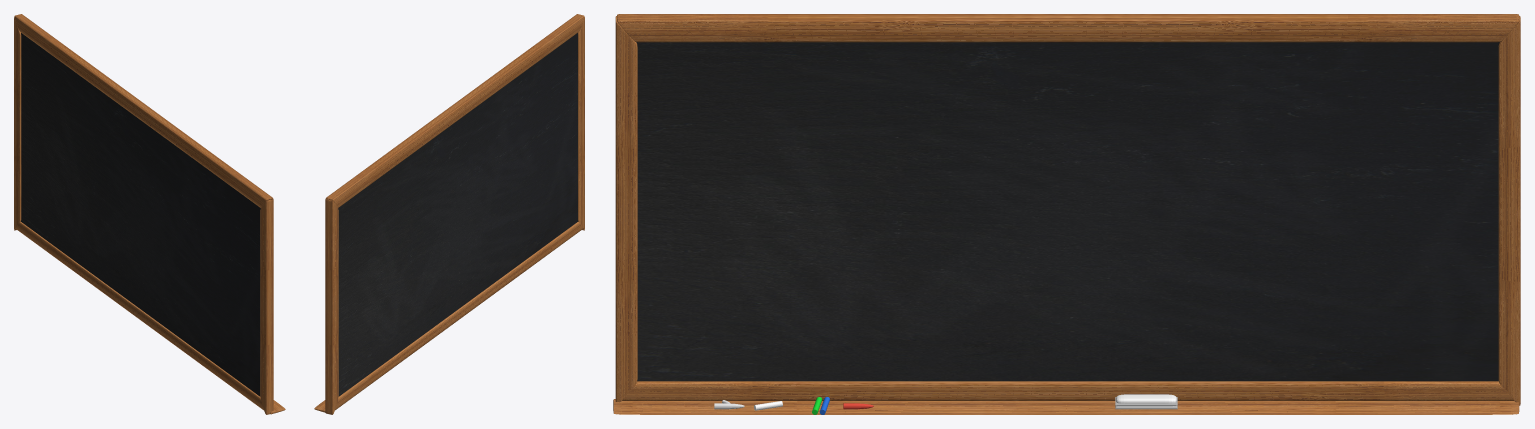
The picture shows the model from 3 angles, left to right: view 1: azimuth 30°, elevation 25°; view 2: azimuth 150°, elevation 25°; view 3: azimuth 270°, elevation 25°; orthographic projection. The views are drawn at different scales.
Parts seen in each view (by area): view 1: Board, Frame_Part_03, Frame_Part_01, Frame_Part_04, Frame_Part_02; view 2: Board, Frame_Part_03, Frame_Part_02, Frame_Part_04, Frame_Part_01; view 3: Board, Frame_Part_03, Frame_Part_04, Frame_Part_05, Frame_Part_02, Frame_Part_01.
Boxes of the visible parts, x1,y1,x2,y2 form: Board: [21, 33, 260, 396]; Frame_Part_03: [14, 14, 273, 207]; Frame_Part_01: [260, 199, 273, 414]; Frame_Part_04: [15, 222, 263, 410]; Frame_Part_02: [14, 16, 21, 230]; Board: [338, 33, 577, 396]; Frame_Part_03: [325, 14, 584, 207]; Frame_Part_02: [325, 199, 338, 414]; Frame_Part_04: [335, 222, 583, 410]; Frame_Part_01: [578, 16, 584, 230]; Board: [636, 42, 1499, 381]; Frame_Part_03: [617, 14, 1519, 42]; Frame_Part_04: [622, 381, 1513, 400]; Frame_Part_05: [613, 399, 1519, 414]; Frame_Part_02: [1498, 16, 1520, 405]; Frame_Part_01: [615, 16, 637, 402].
Bounding box in the file's own units: 0.2653 × 2.48 × 5.28.
8 materials, 2 textured.
